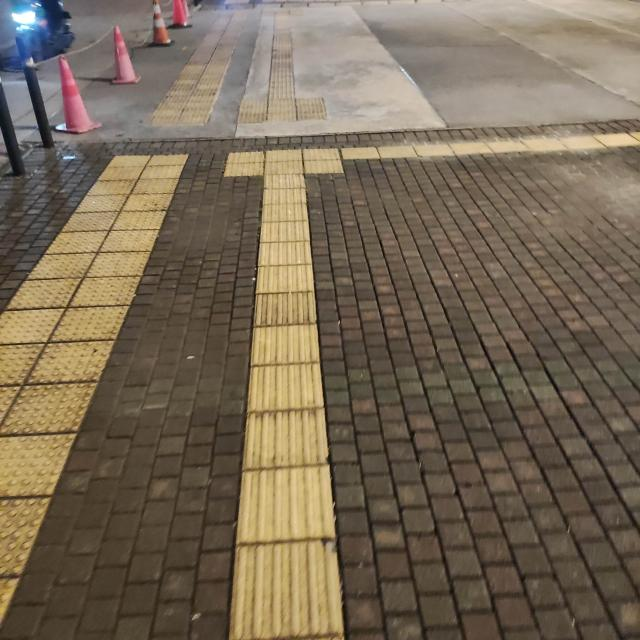kanan: (251, 133, 410, 192)
